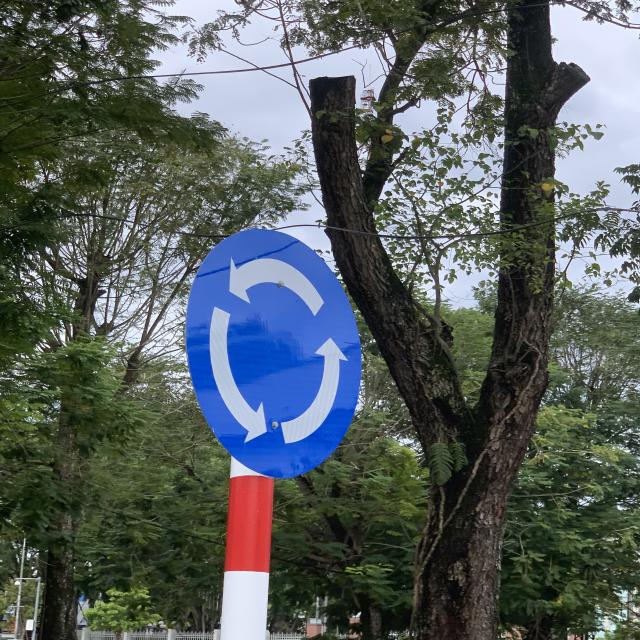Xe_Bus: (191, 224, 355, 477)
